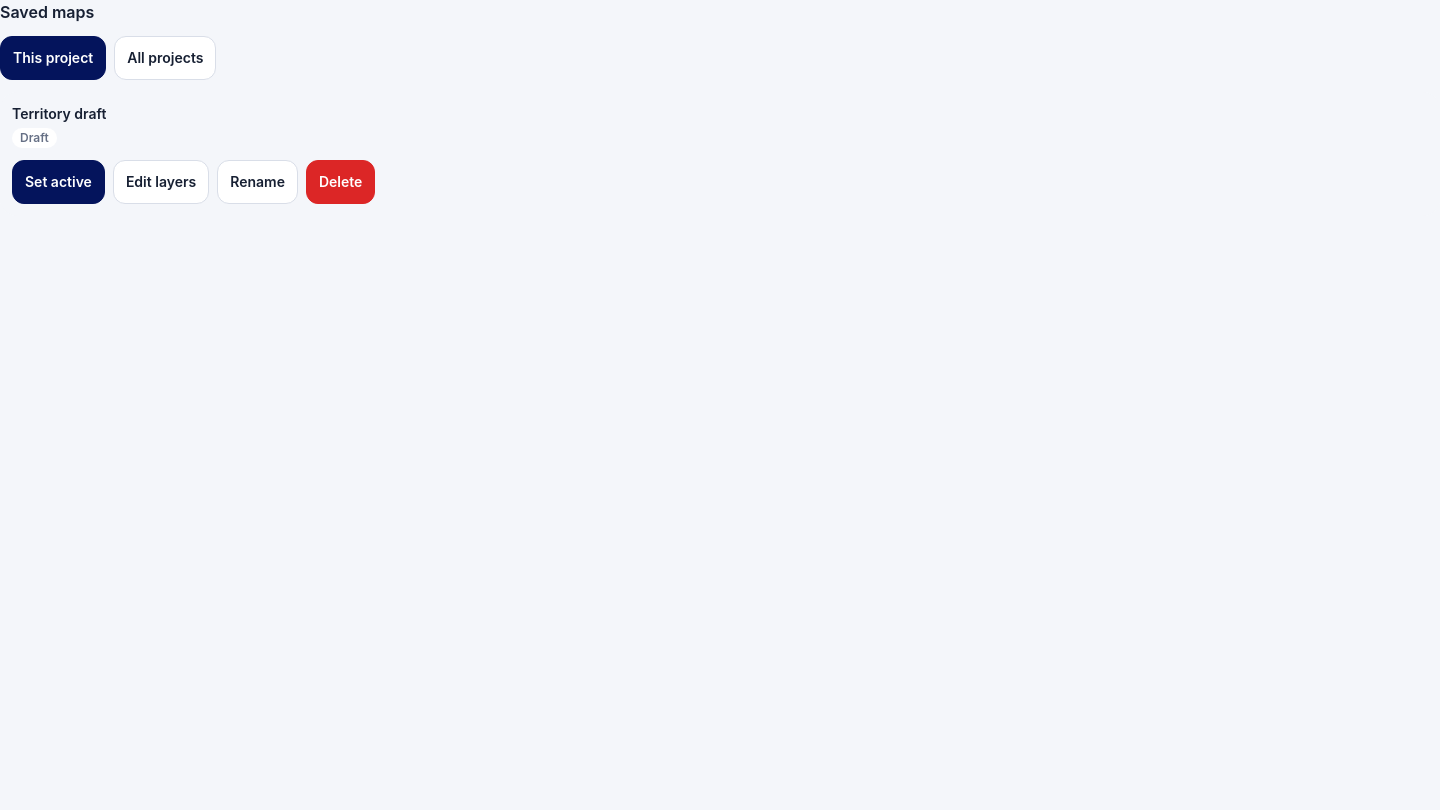
Scenario: SavedMapsList › renames a saved map
Click the button "Rename": point(258, 182) x1=217 y1=160 x2=298 y2=204
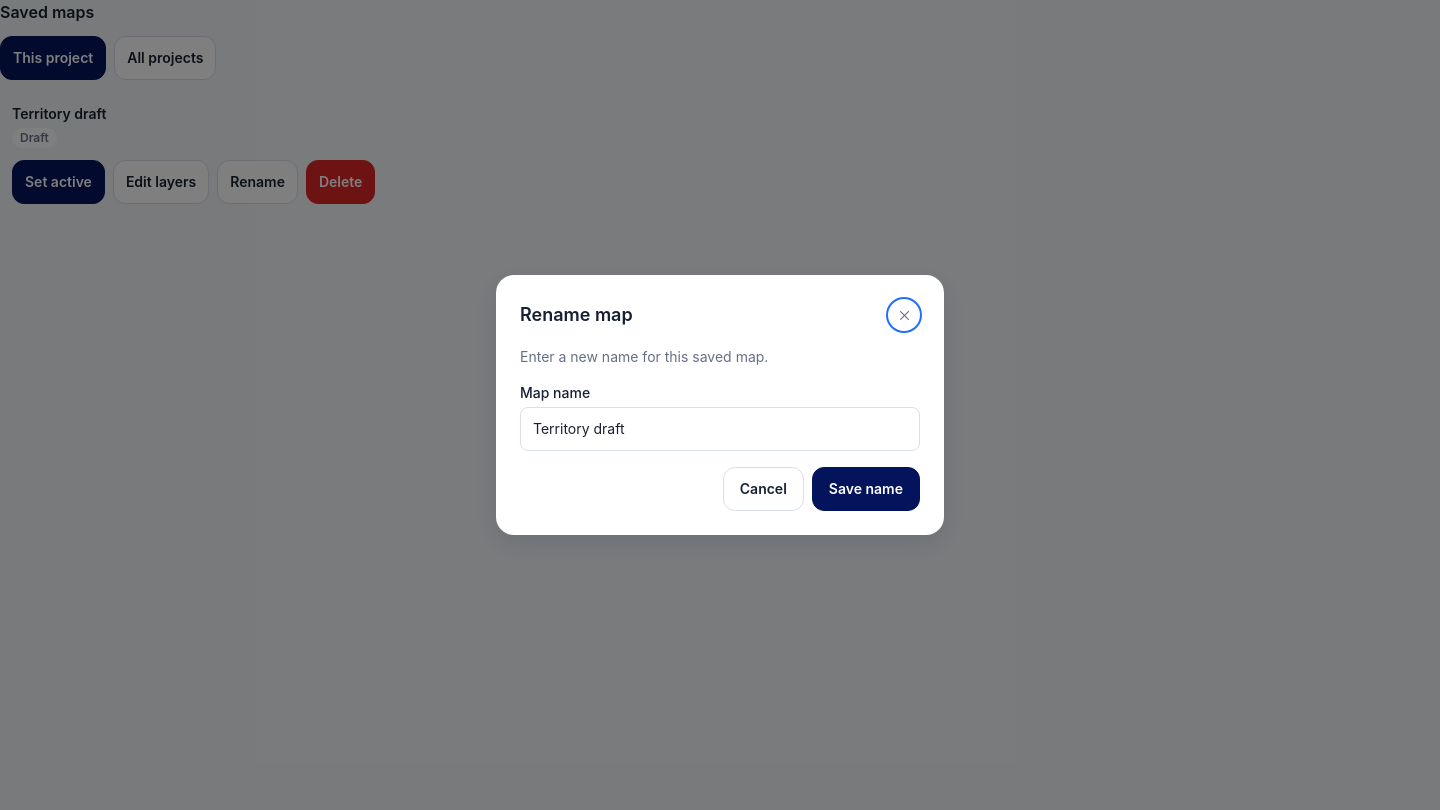
Replace the text in the field labelled "Map name" with "Renamed territory": point(720, 429) x1=520 y1=407 x2=920 y2=451
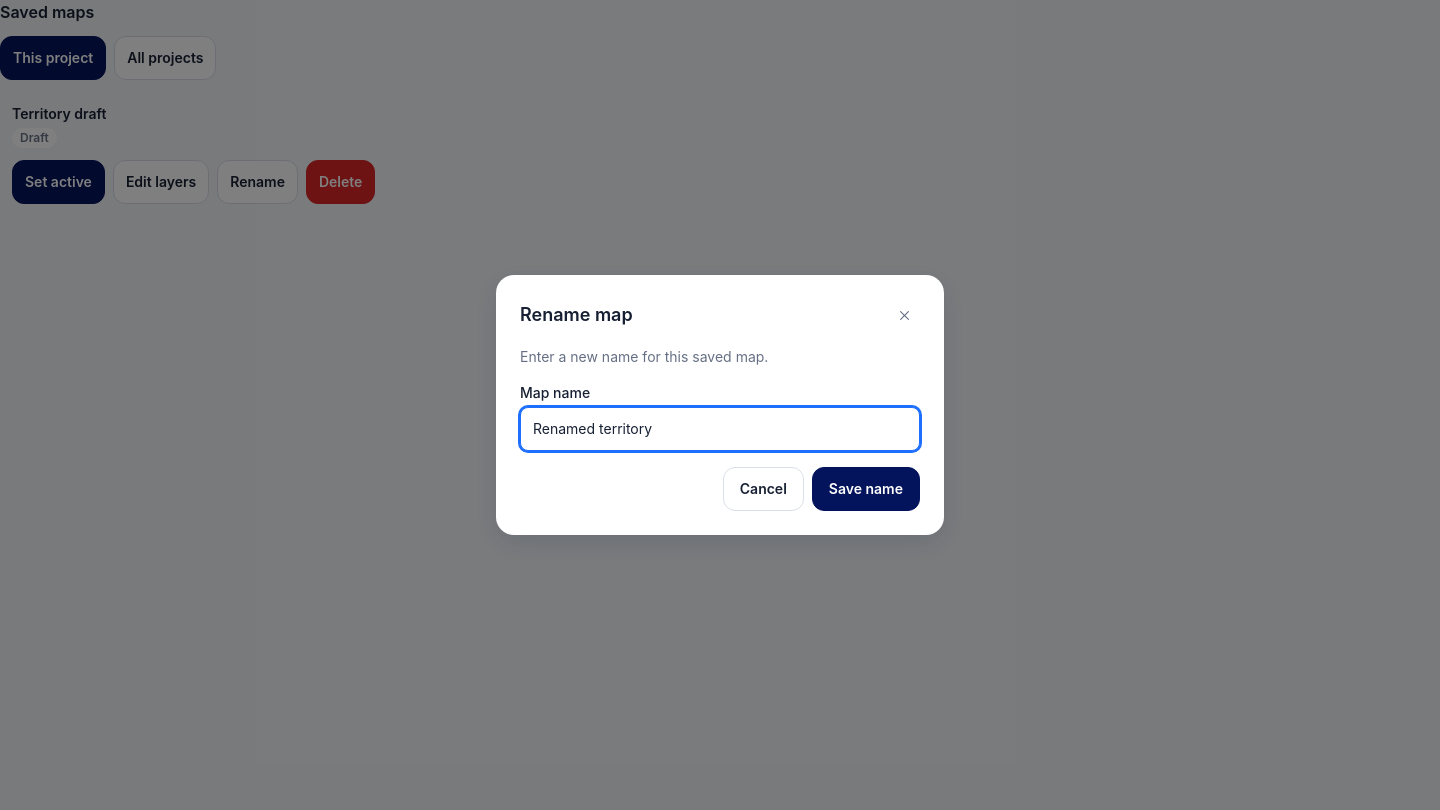
Click the button "Save name": point(866, 489) x1=812 y1=467 x2=920 y2=511
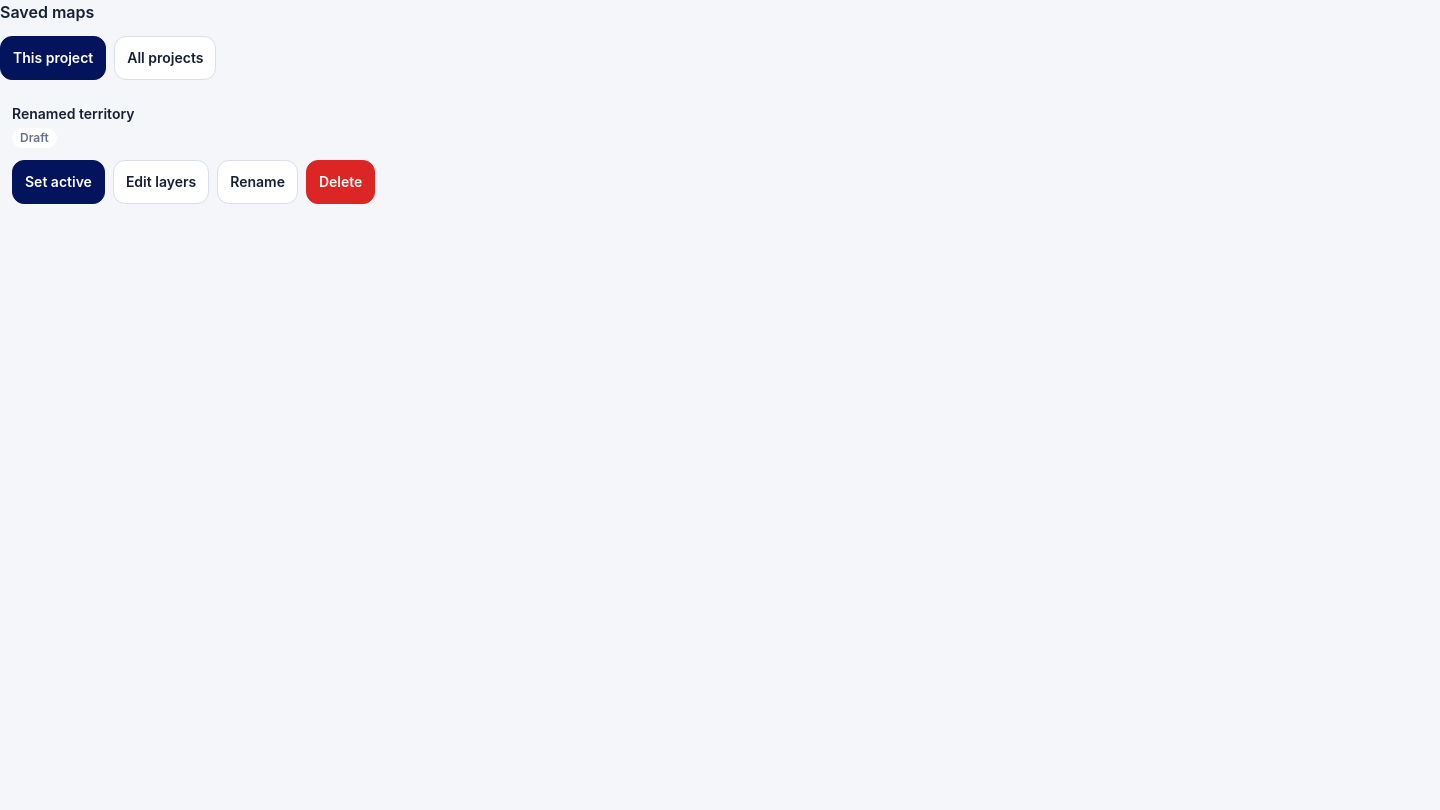
Now the heading "Renamed territory" is shown, box x1=12 y1=104 x2=134 y2=124
Now the heading "Renamed territory" reads "Renamed territory", box x1=12 y1=105 x2=134 y2=122
